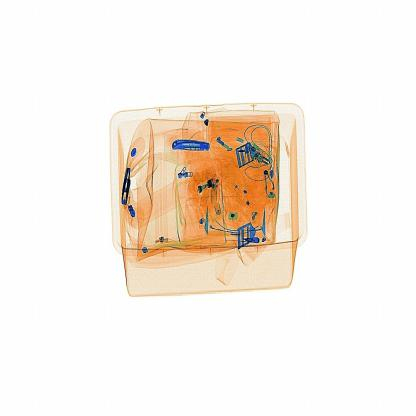knife: (165, 132, 217, 166)
